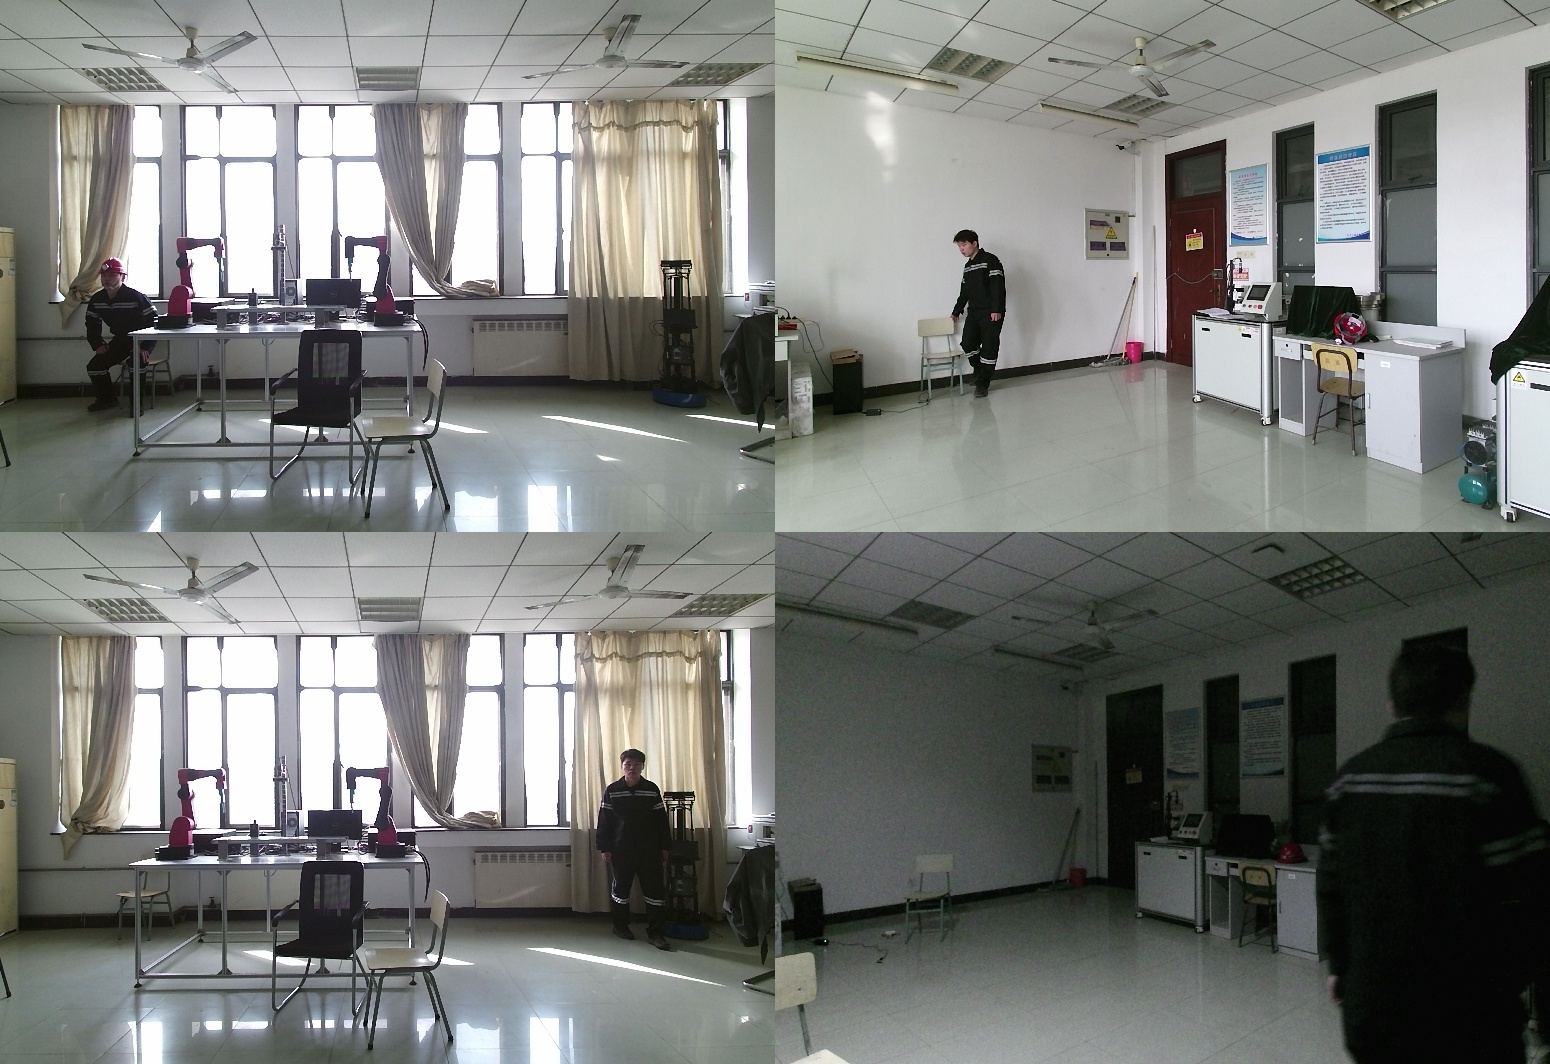person: (1322, 631, 1550, 1064), (596, 750, 683, 946), (75, 259, 161, 413), (952, 229, 1011, 404)
